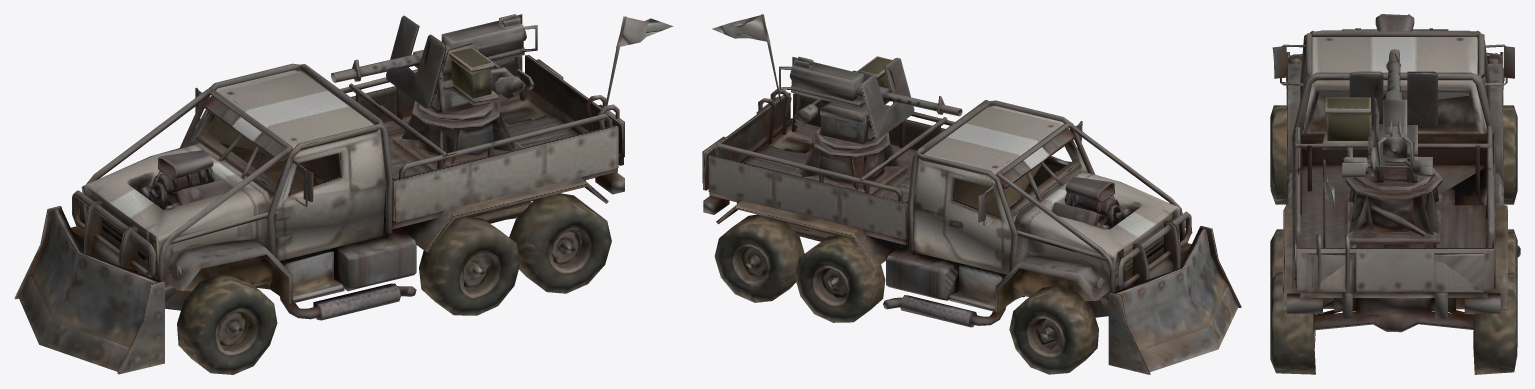
File: Car_Large.glb
The picture shows the model from 3 angles, left to right: view 1: azimuth 30°, elevation 25°; view 2: azimuth 150°, elevation 25°; view 3: azimuth 270°, elevation 25°; orthographic projection. The views are drawn at different scales.
Parts seen in each view (by area): view 1: geometry_0; view 2: geometry_0; view 3: geometry_0.
Boxes of the visible parts, x1,y1,x2,y2 form: geometry_0: (14,14,673,374); geometry_0: (702,14,1241,374); geometry_0: (1270,14,1520,374).
Bounding box in the file's own units: 0.9536 × 0.3672 × 0.3301.
1 material, 1 textured.
